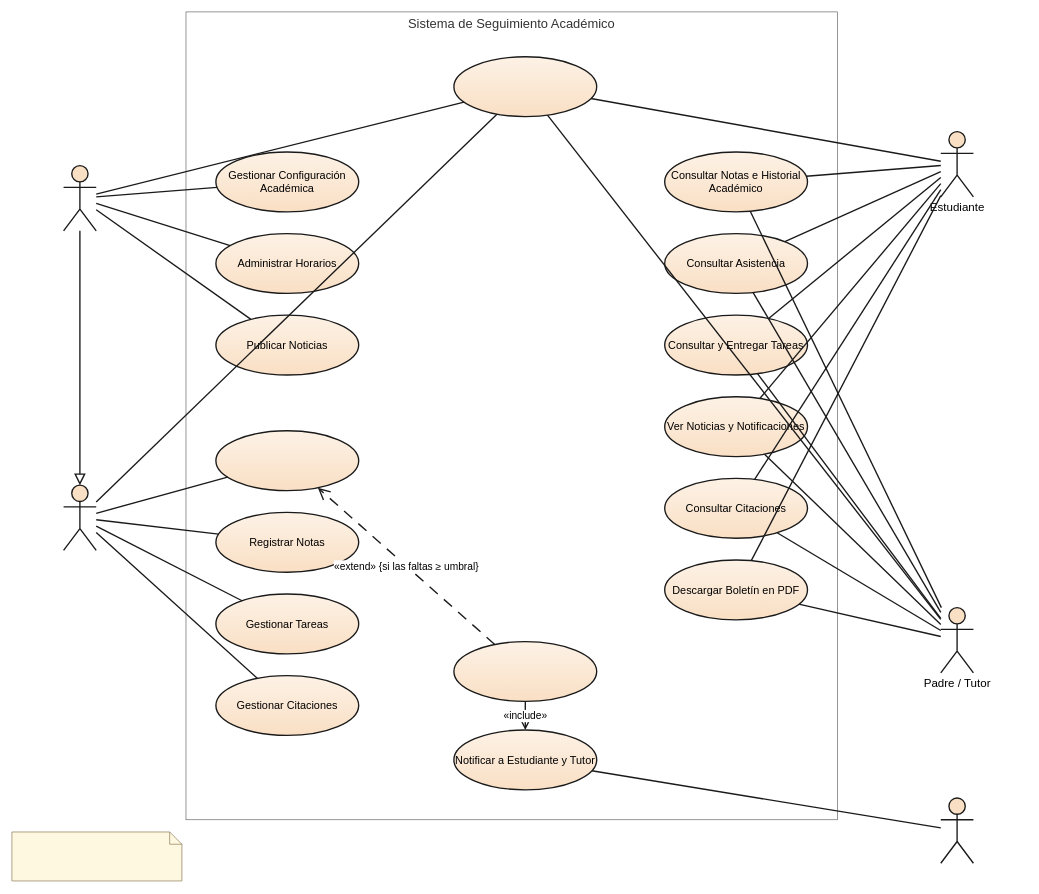
This 1039x894 diagram has some shape labels left out. The shapes that lost their labels are listed below. From the top down, each one's box as (x1, y1, x2, y2) in pixels, then its label:
(453, 56, 597, 117): Iniciar Sesión
(63, 165, 97, 231): Administrador
(215, 430, 359, 491): Registrar Asistencia
(63, 484, 97, 551): Profesor
(453, 641, 597, 702): Generar Citación Automática
(940, 797, 974, 864): Servidor de Correo (SMTP)
(11, 831, 182, 881): El Administrador hereda todos los casos de uso del Profesor.
